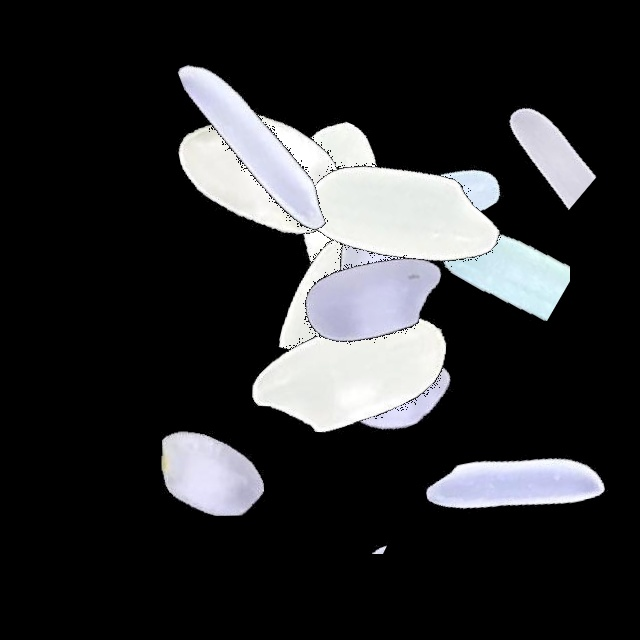Broken: (85, 349, 335, 516), (447, 14, 604, 264), (261, 156, 417, 406), (268, 144, 518, 300), (422, 136, 570, 386), (234, 479, 484, 554)
Full: (303, 80, 553, 330), (223, 88, 473, 338), (137, 48, 387, 298), (276, 268, 526, 518), (275, 94, 525, 344), (222, 250, 472, 500), (247, 172, 497, 422), (128, 20, 378, 270), (387, 358, 637, 608)
